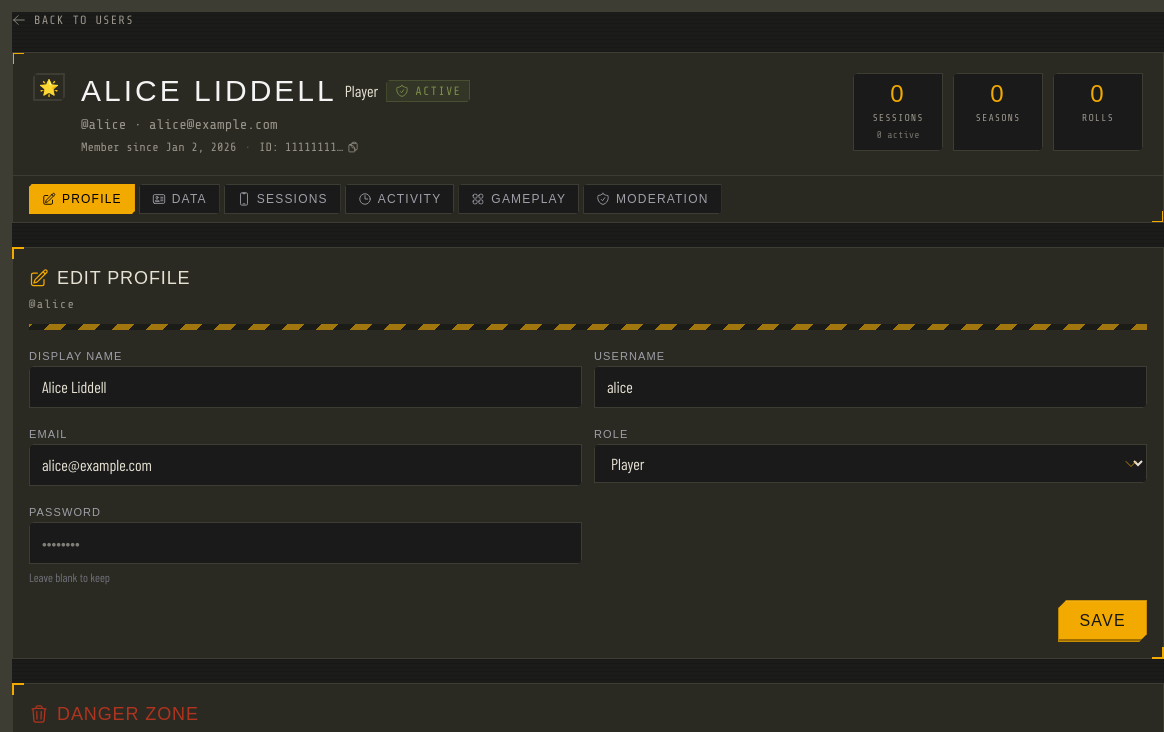
Test: UserDetailPage › shows the action error from the form shell to the admin
Click the button "Save". click: (1103, 621)
box: [1058, 600, 1147, 642]
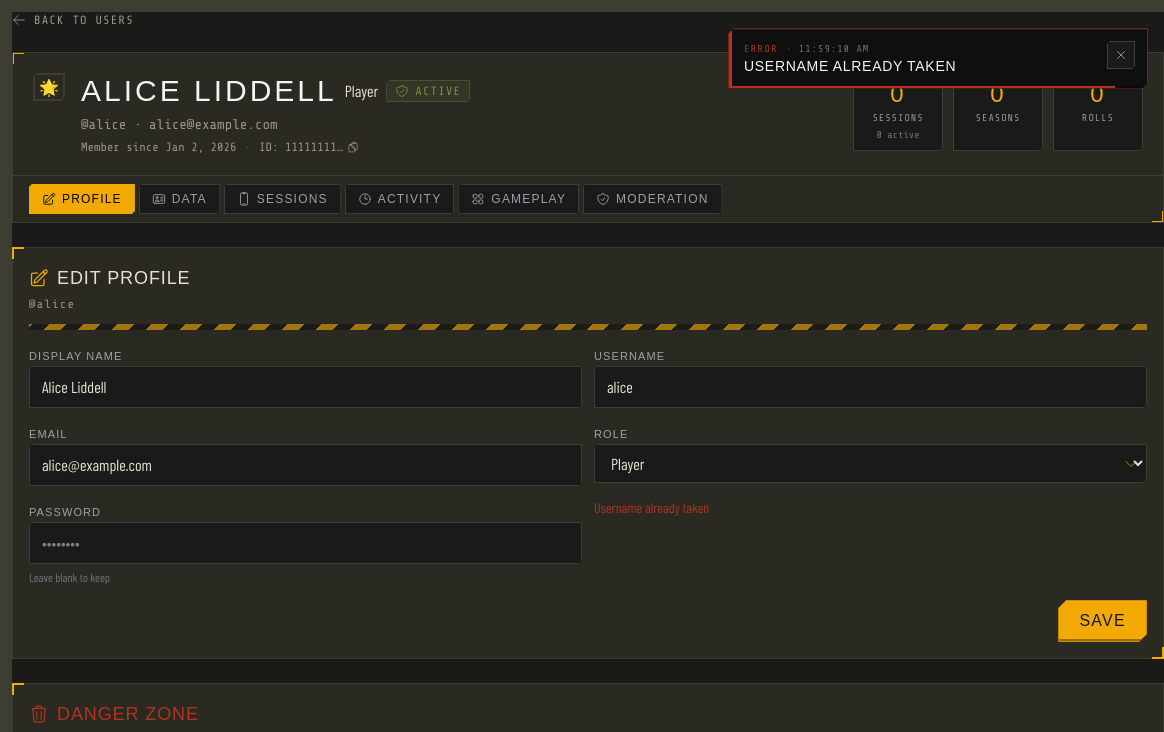
expect the message "Username already taken" is shown: met, box [594, 499, 709, 516]
